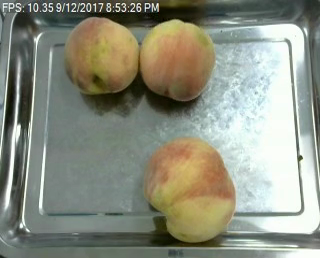Peach: (144, 135, 237, 242), (140, 19, 216, 101), (63, 16, 139, 95)
